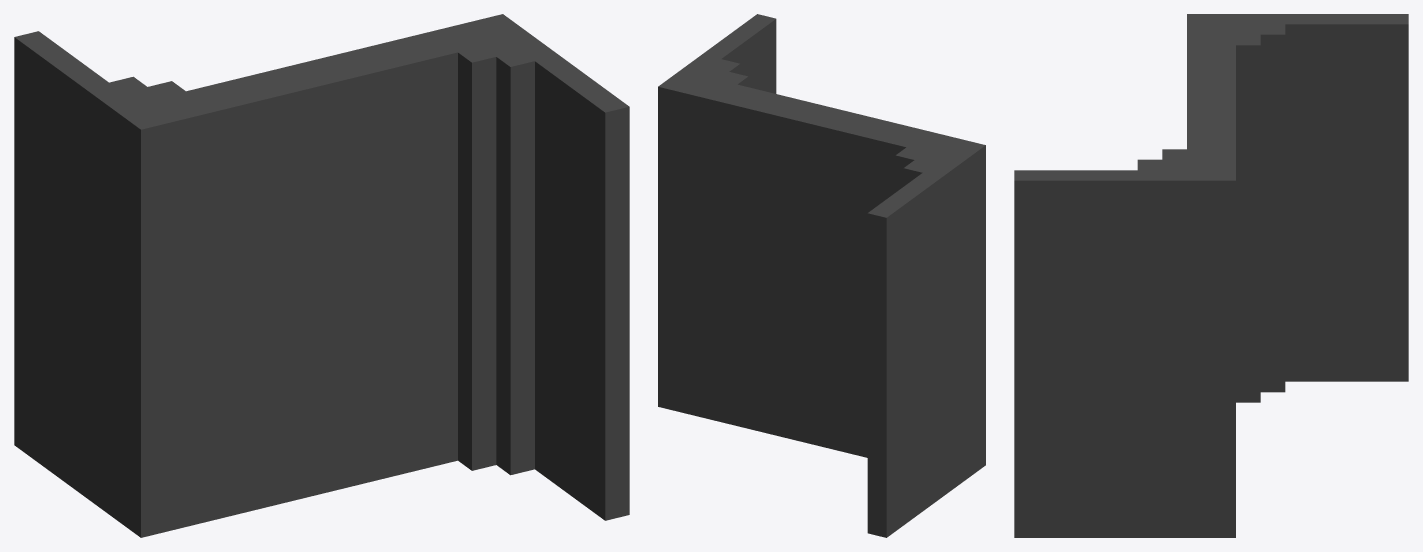
The model's file is wbeam.obj.
3 views of the same model, side by side, from view 1: azimuth 30°, elevation 25°; view 2: azimuth 150°, elevation 25°; view 3: azimuth 270°, elevation 25° (orthographic). The views are drawn at different scales.
Size of the model in its own units: 1.6 by 1.6 by 1.6.
Materials: 1 (1 with a texture image).
